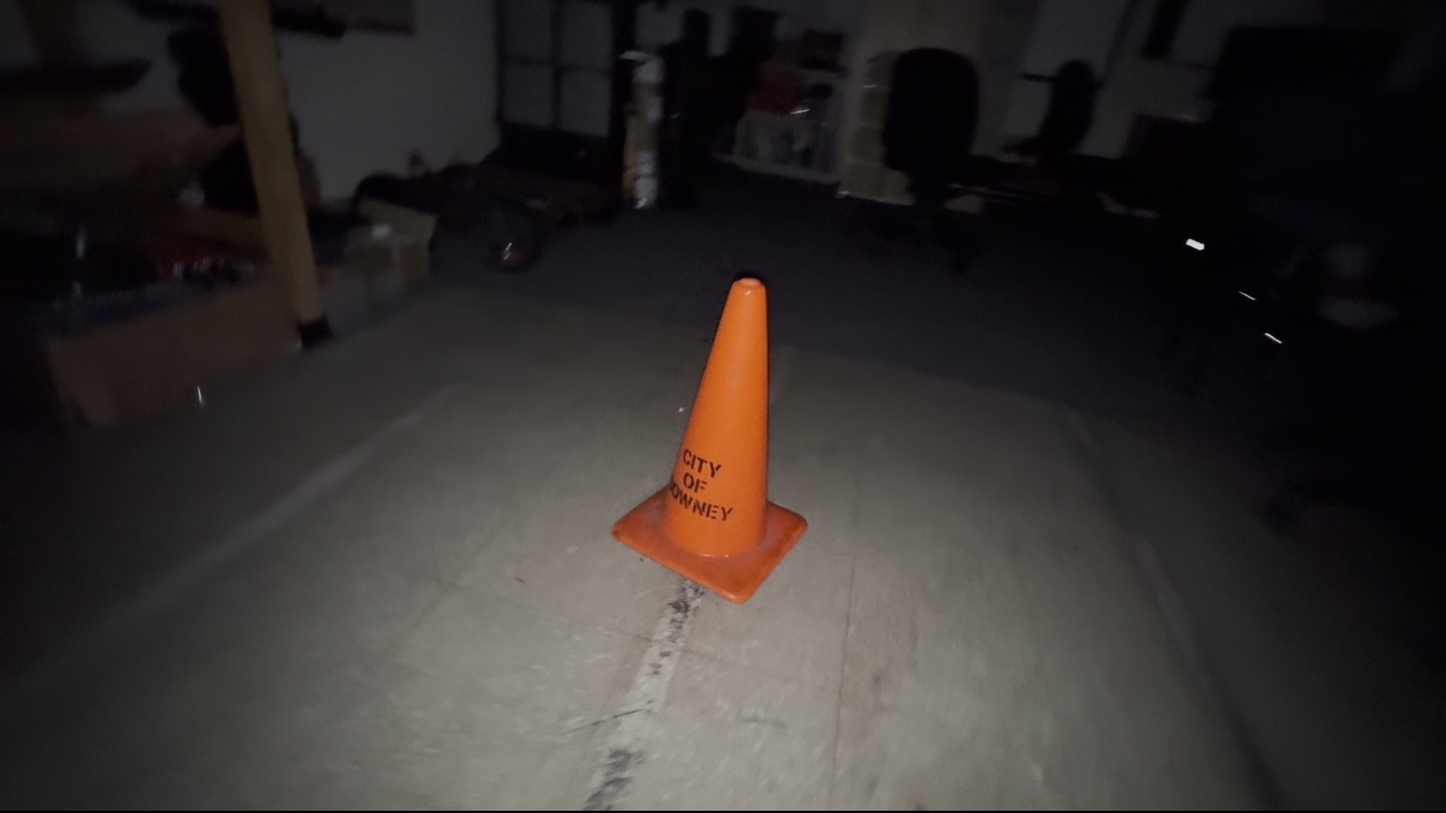traffic_cone: (611, 275, 809, 605)
